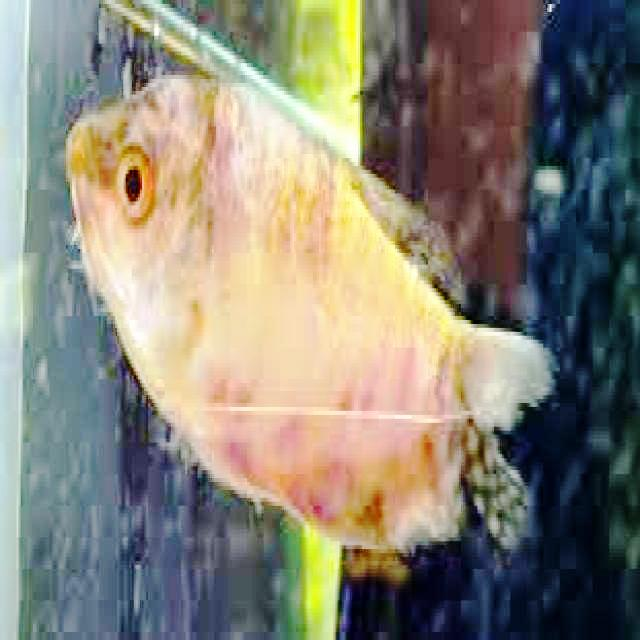Epizootic Ulcerative Syndrome -EUS-: (66, 76, 551, 546)
